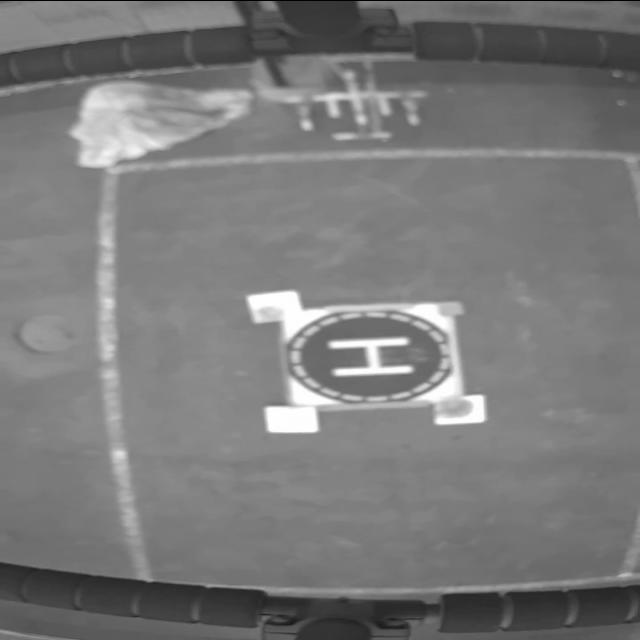Helipad: (324, 336, 415, 376)
